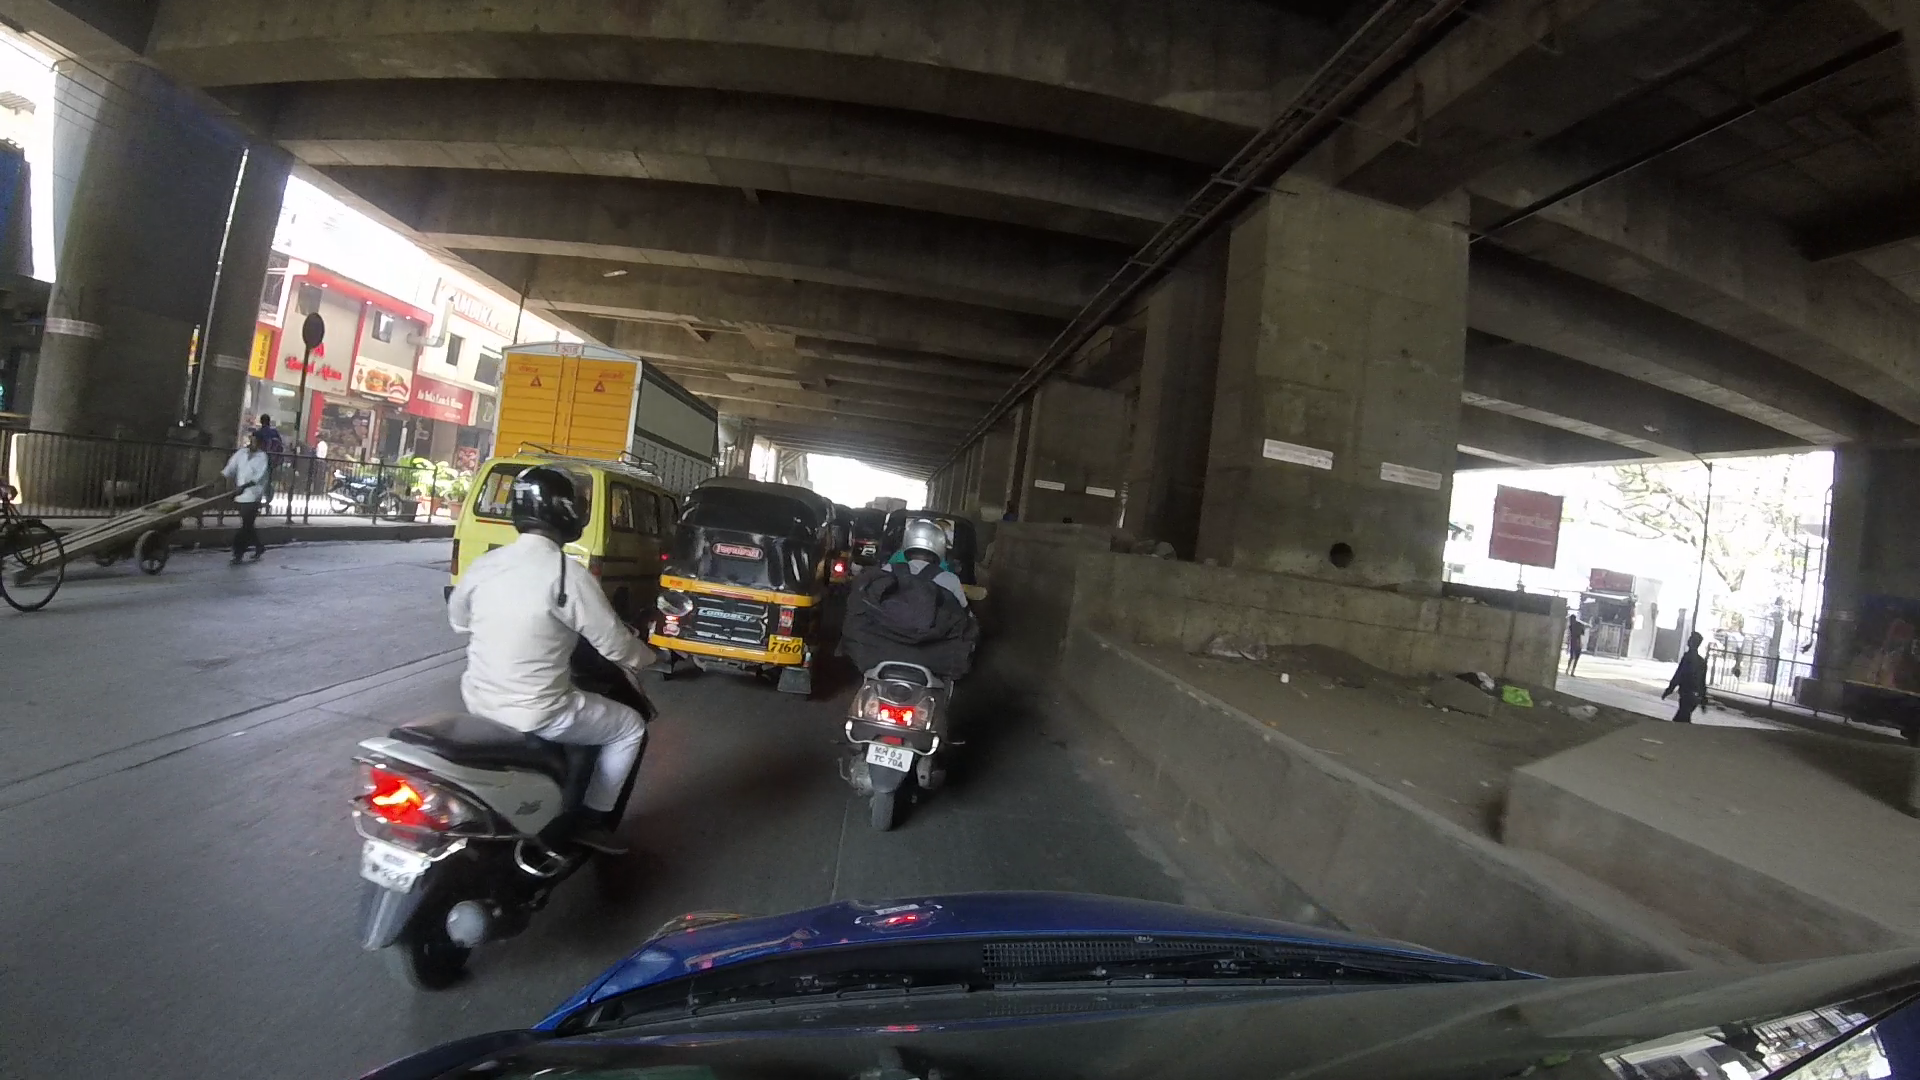bike/scooter: (345, 458, 669, 980), (852, 520, 990, 829)
car: (502, 336, 699, 549), (446, 454, 649, 607)
rickshaw: (640, 483, 852, 688)
